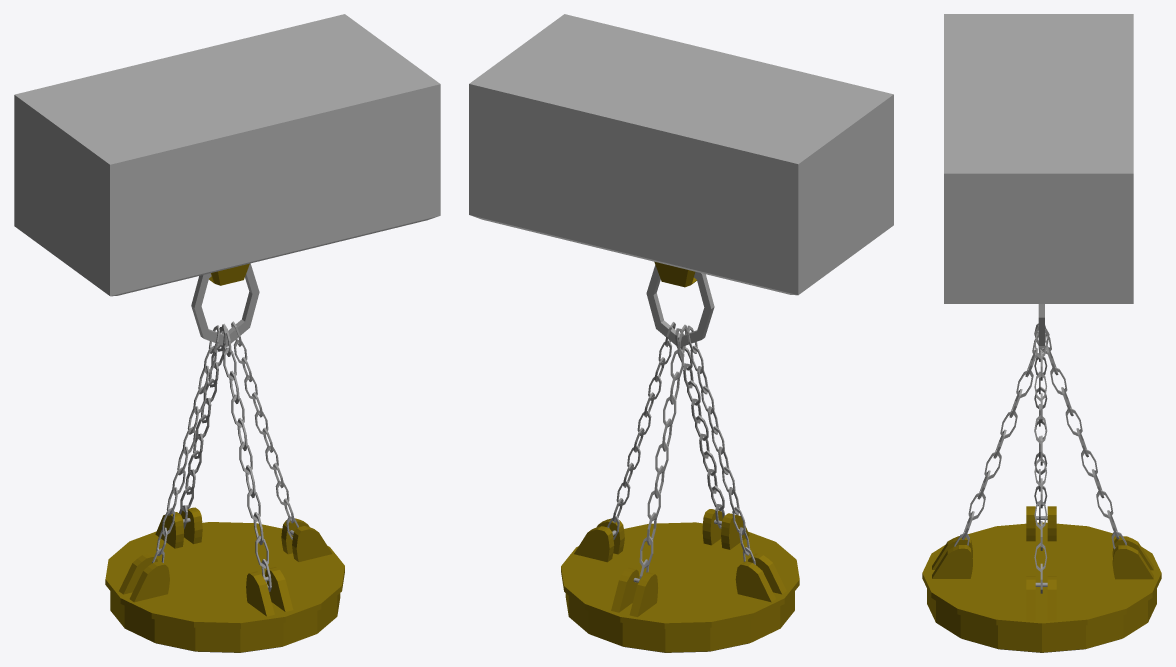
Rendered from Magnet.fbx.
3 views of the same model, side by side, from view 1: azimuth 30°, elevation 25°; view 2: azimuth 150°, elevation 25°; view 3: azimuth 270°, elevation 25° (orthographic).
Visible parts, largest first — view 1: Magnet; view 2: Magnet; view 3: Magnet.
Part boxes in pixels (x1=…): Magnet: x1=14, y1=14, x2=440, y2=652; Magnet: x1=469, y1=14, x2=893, y2=652; Magnet: x1=922, y1=14, x2=1161, y2=652.
Size of the model in its own units: 752 by 1124 by 476.
